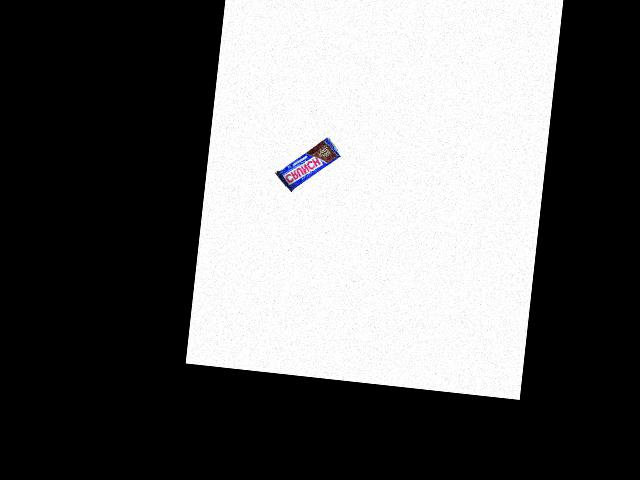chocolate: (272, 130, 344, 197)
